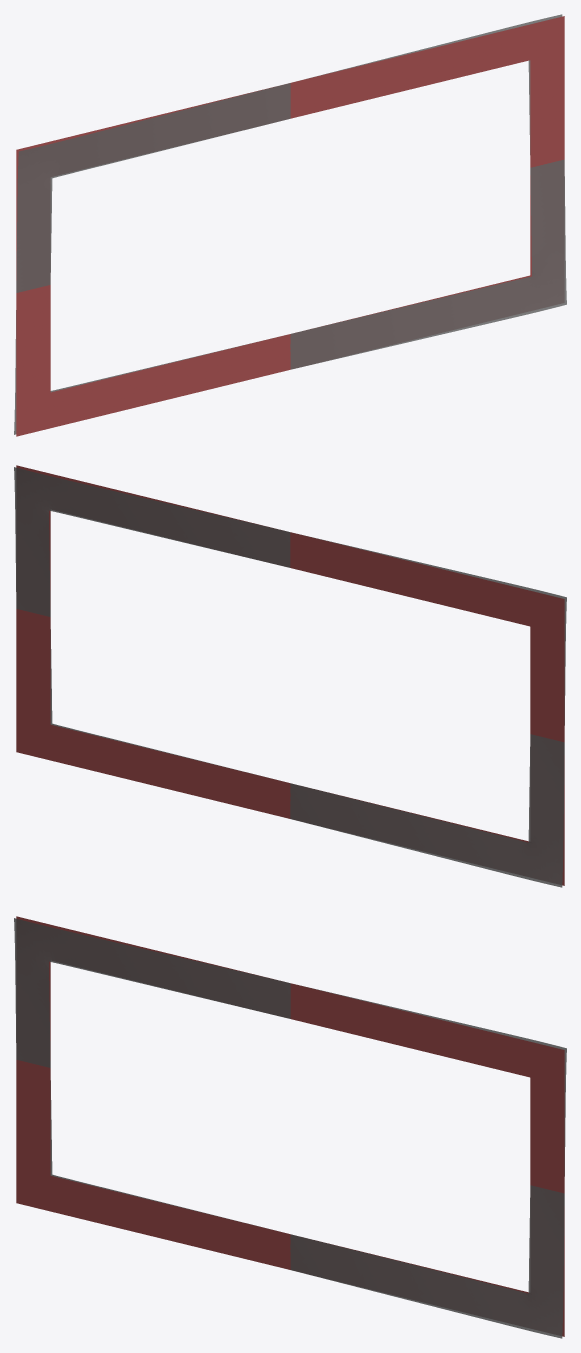
File: warping-box-80-160-10-10-3801.glb
3 renders of one model, top to bottom at view 1: azimuth 30°, elevation 25°; view 2: azimuth 150°, elevation 25°; view 3: azimuth 330°, elevation 25°, orthographic.
Visible parts, largest first — view 1: undeformed cross-section, cross-section with warping; view 2: undeformed cross-section, cross-section with warping; view 3: undeformed cross-section, cross-section with warping.
Part boxes in pixels (<box>): undeformed cross-section: <box>16,16,564,436</box>; cross-section with warping: <box>14,14,566,434</box>; undeformed cross-section: <box>16,465,564,885</box>; cross-section with warping: <box>14,467,566,887</box>; undeformed cross-section: <box>16,916,564,1336</box>; cross-section with warping: <box>14,918,566,1338</box>.
Bounding box in the file's own units: 0.16 × 0.08 × 0.00265.
